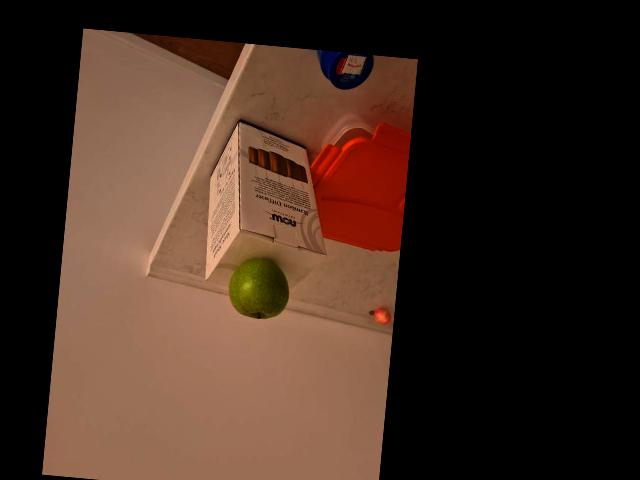apple: (227, 253, 286, 323)
